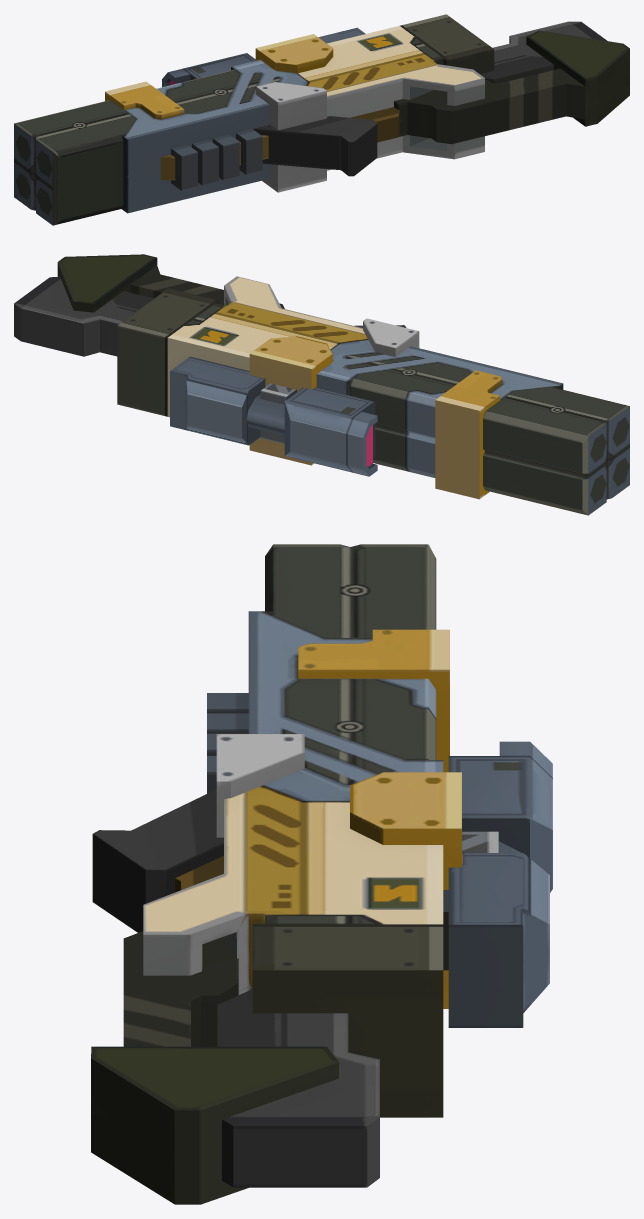
Rendered from weapon_Patriot.FBX.
The picture shows the model from 3 angles, top to bottom: view 1: azimuth 30°, elevation 25°; view 2: azimuth 150°, elevation 25°; view 3: azimuth 270°, elevation 25°; orthographic projection. The views are drawn at different scales.
Visible parts, largest first — view 1: weapon_Patriot; view 2: weapon_Patriot; view 3: weapon_Patriot.
Part boxes in pixels (bbox=[...]): weapon_Patriot: bbox=[14, 14, 629, 225]; weapon_Patriot: bbox=[14, 254, 629, 515]; weapon_Patriot: bbox=[91, 544, 552, 1204].
Size of the model in its own units: 218 by 33.91 by 78.73.
1 material, 1 textured.
